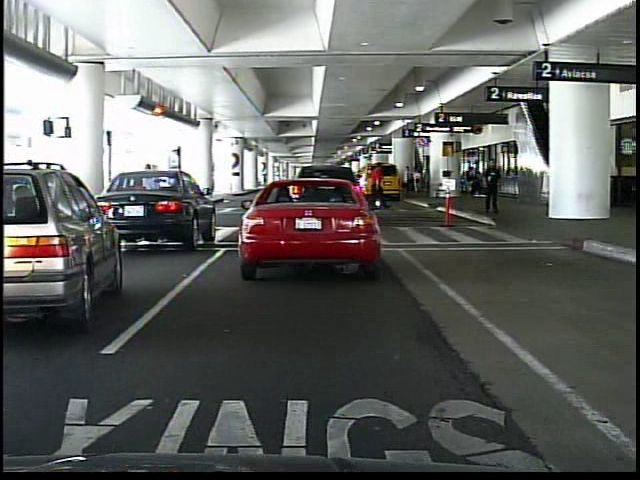person: (133, 161, 161, 232), (483, 157, 503, 217), (369, 161, 386, 215), (403, 162, 417, 198)
